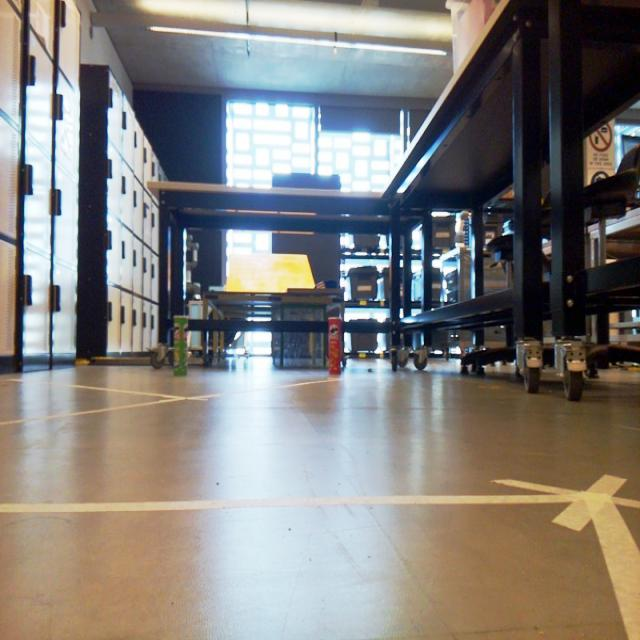greenpringles: (167, 296, 205, 389)
redpringles: (312, 308, 357, 392)
